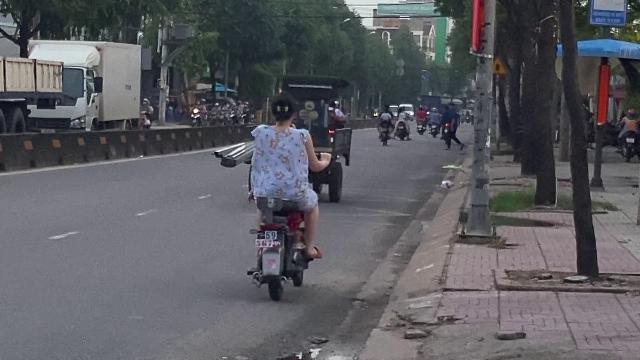motorcyclist: (245, 87, 328, 300)
nohelmet: (266, 92, 296, 126)
